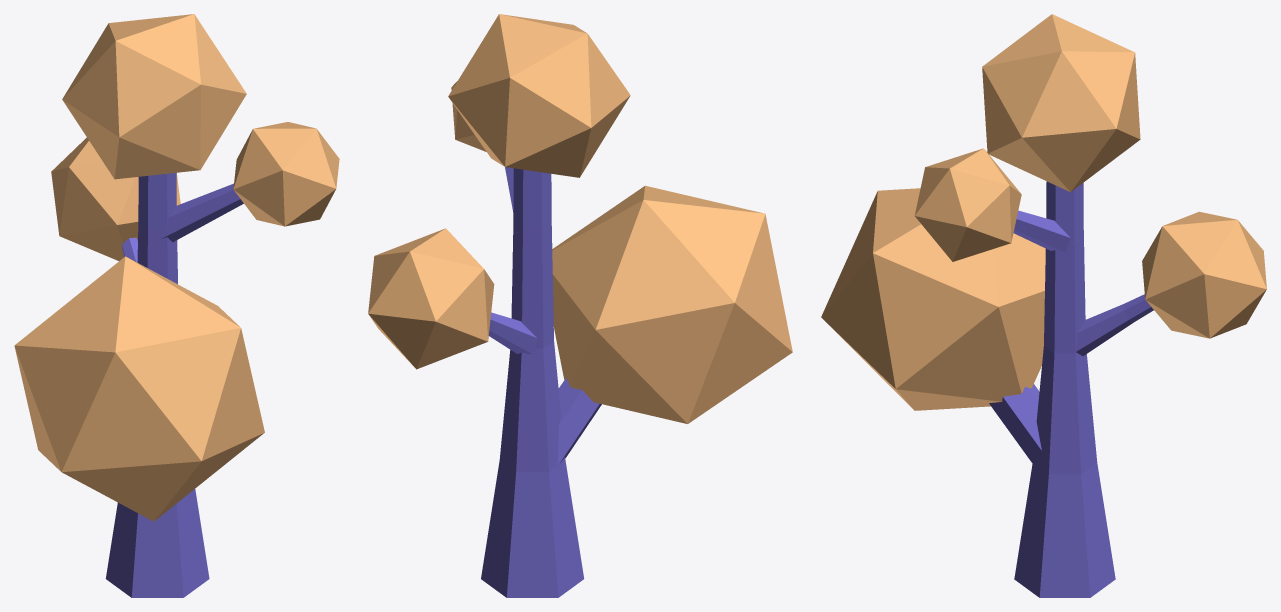
3 renders of one model, left to right at view 1: azimuth 30°, elevation 25°; view 2: azimuth 150°, elevation 25°; view 3: azimuth 270°, elevation 25°, orthographic. The views are drawn at different scales.
Visible parts, largest first — view 1: Cylinder.001; view 2: Cylinder.001; view 3: Cylinder.001.
Boxes of the visible parts, left/top/right/bottom form: Cylinder.001: left=14, top=14, right=339, bottom=597; Cylinder.001: left=368, top=14, right=792, bottom=597; Cylinder.001: left=821, top=14, right=1266, bottom=597.
Size of the model in its own units: 3.21 by 5.52 by 4.09.
